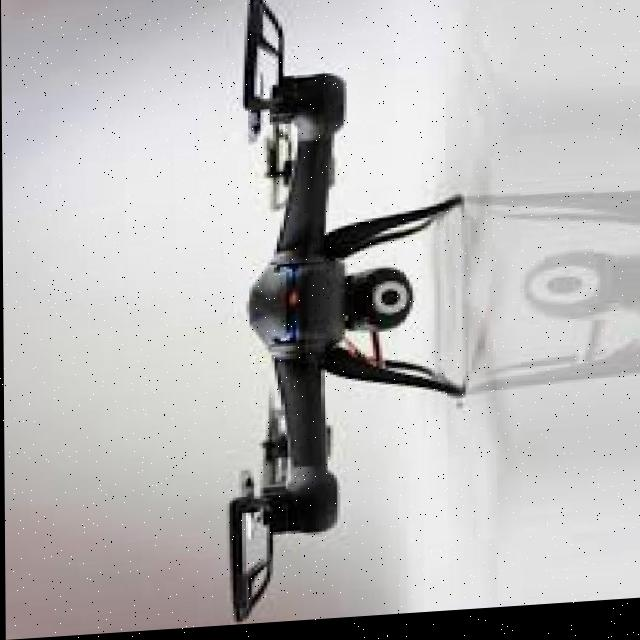drone: (194, 0, 458, 630)
